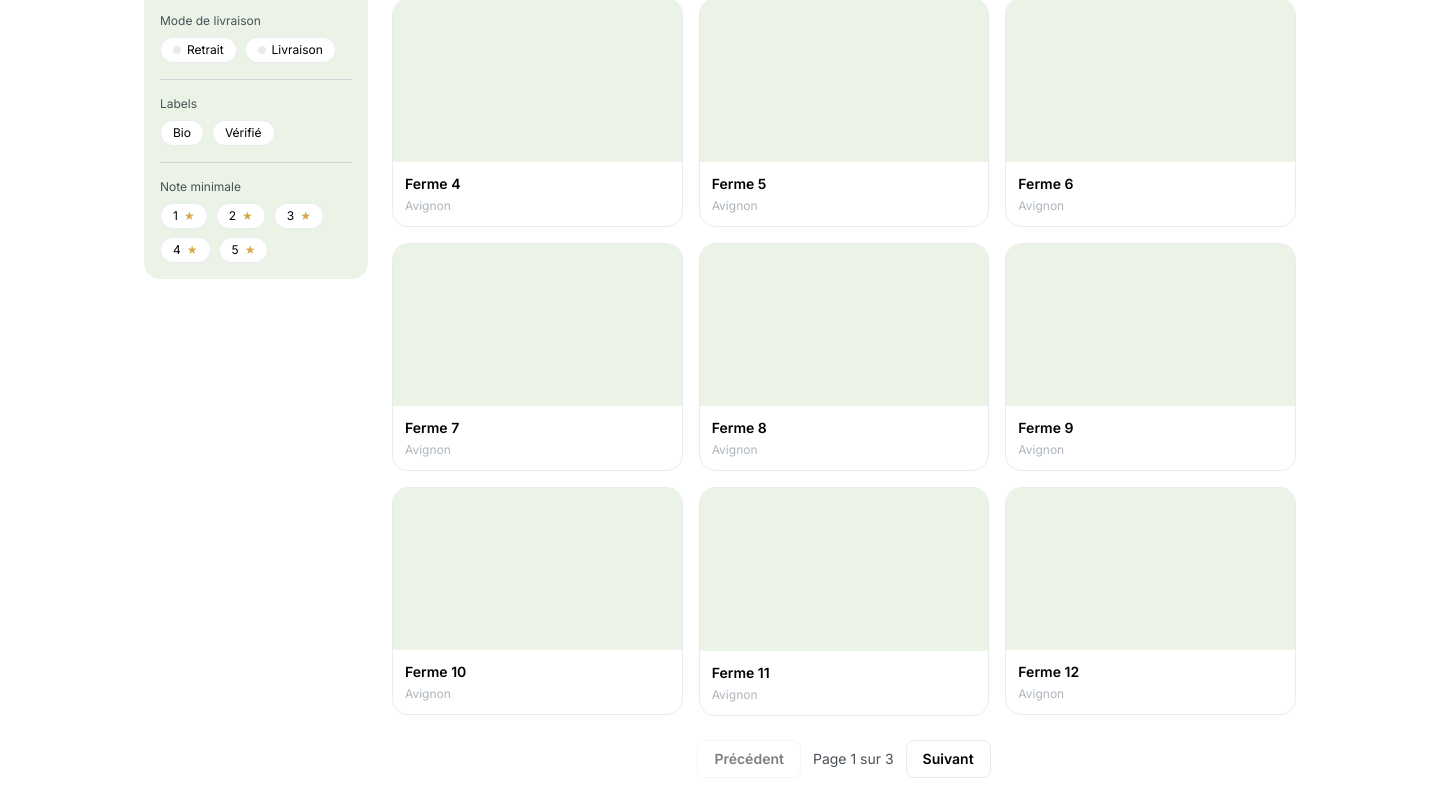
Test: ProducersComponent › demande la page suivante au clic sur « Suivant »
(page scrolled)
Click the button "Suivant". click: (948, 758)
box: [906,740,991,778]
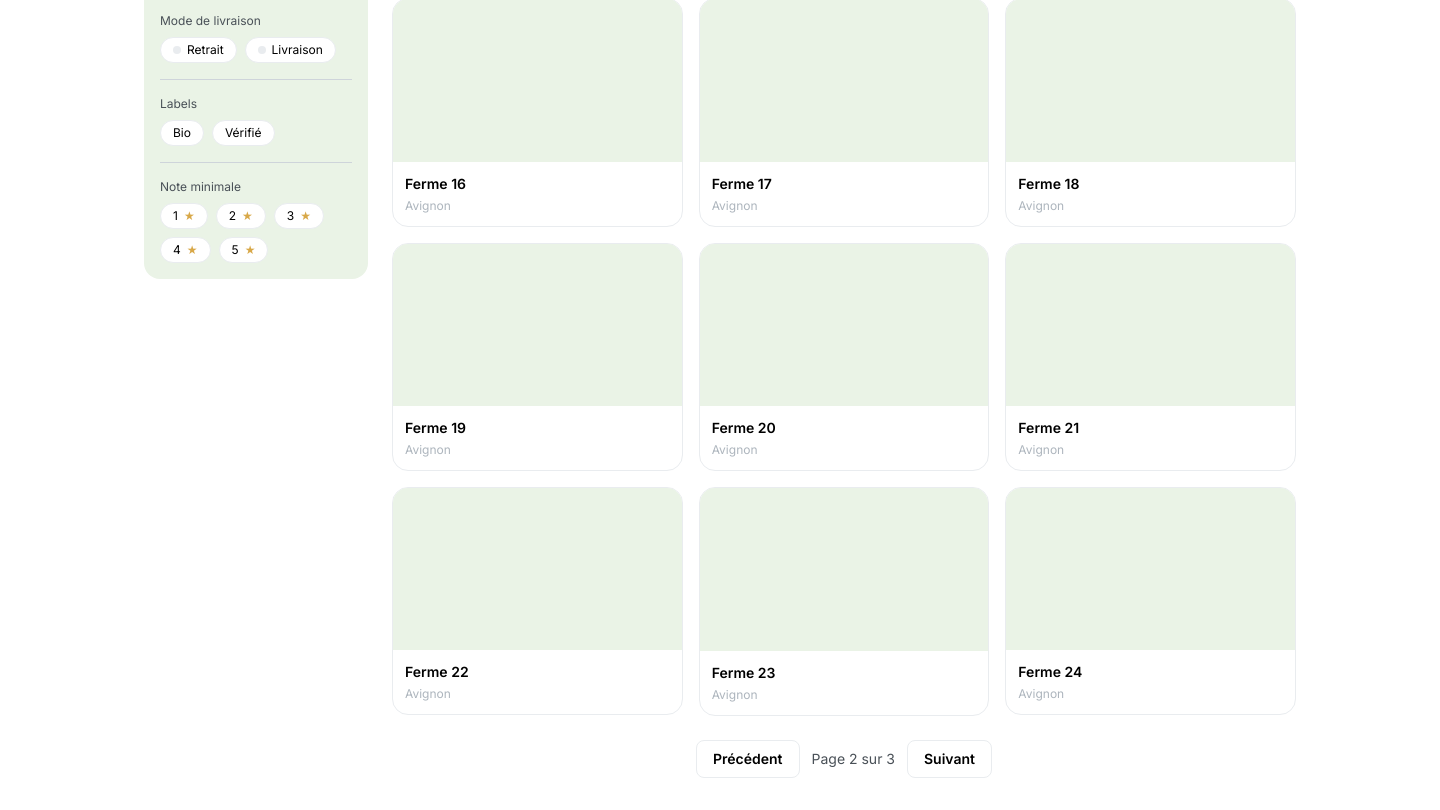
Expected: the navigation bar named "Pagination" shows "Page 2 sur 3", [812,750,895,766]
